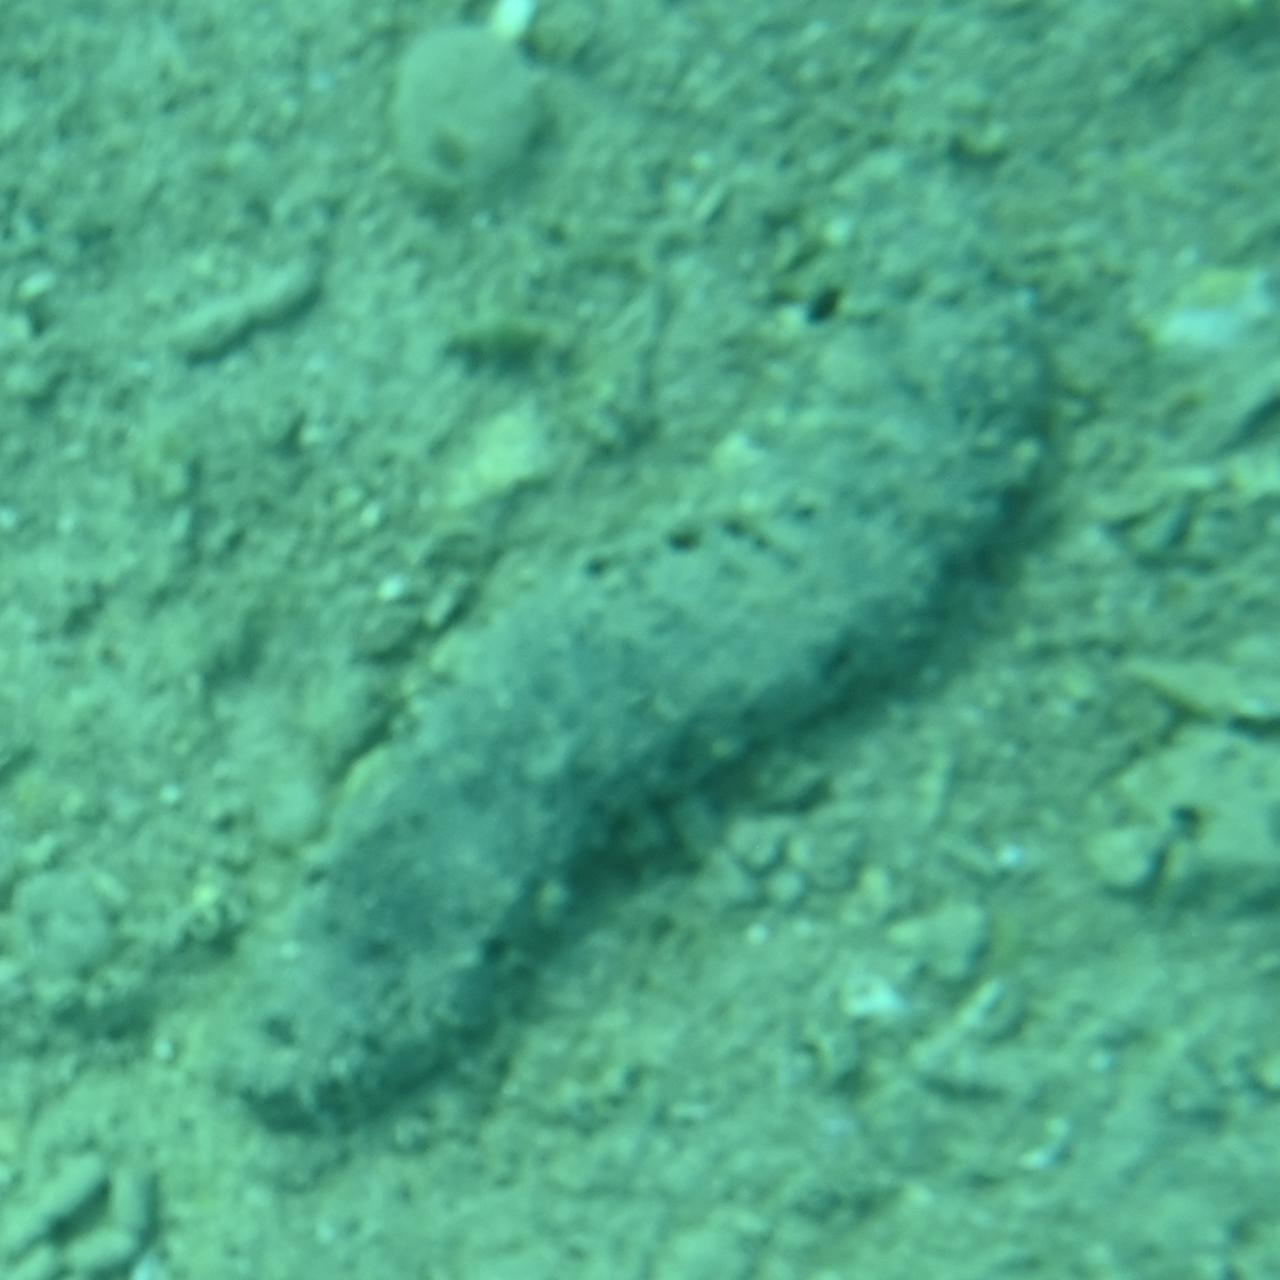Holothuria tubulosa: (177, 132, 1103, 1148)
